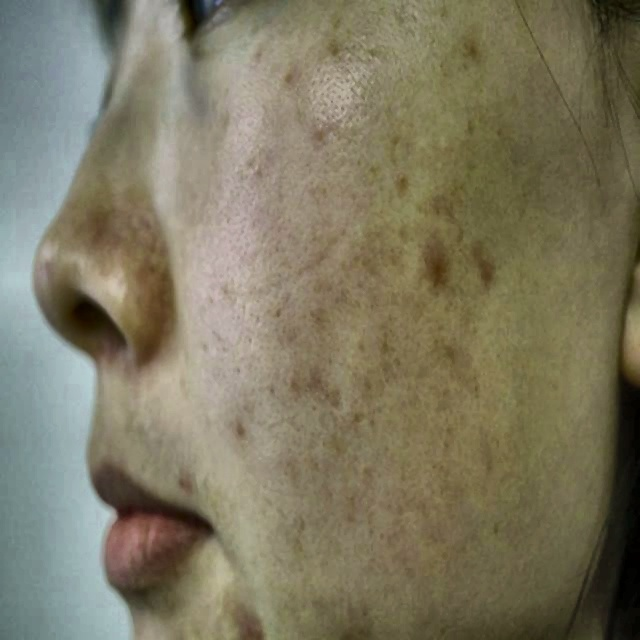comedone: (470, 234, 510, 307), (218, 583, 274, 635), (165, 452, 198, 517), (409, 250, 457, 293)
